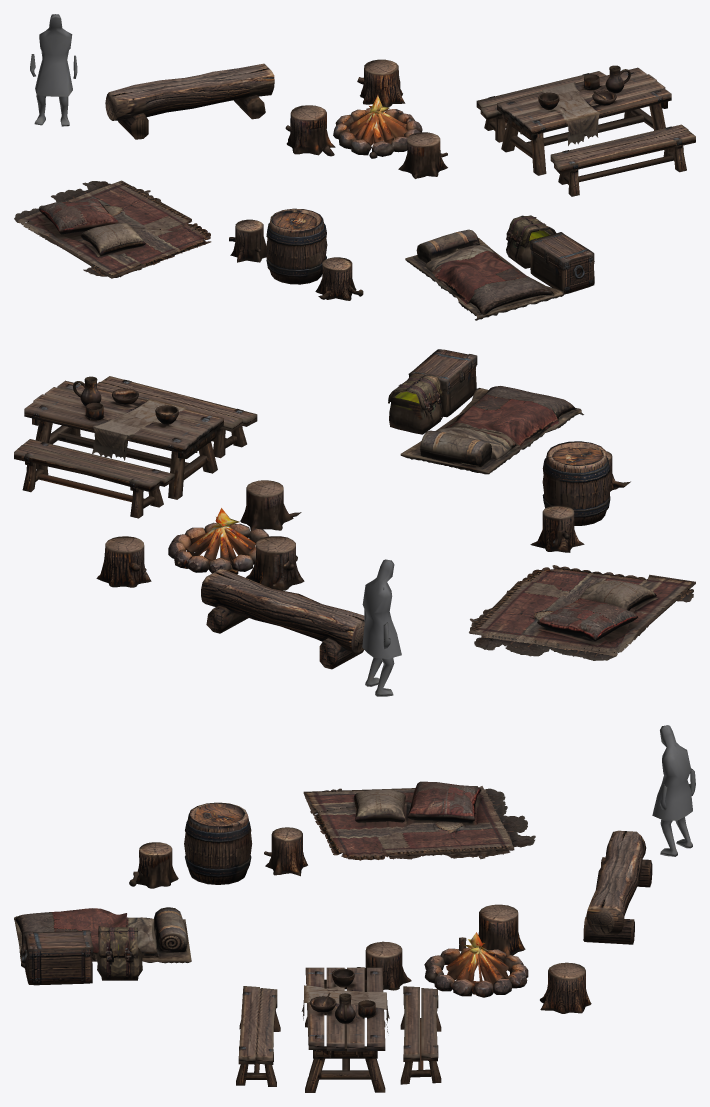
Rendered from asset_20_social_seating_set.glb.
The picture shows the model from 3 angles, top to bottom: view 1: azimuth 30°, elevation 25°; view 2: azimuth 150°, elevation 25°; view 3: azimuth 270°, elevation 25°; orthographic projection. The views are drawn at different scales.
Parts seen in each view (by area): view 1: tripo_859b735f_1825_4a52_b536_e51a407c41b5; view 2: tripo_859b735f_1825_4a52_b536_e51a407c41b5; view 3: tripo_859b735f_1825_4a52_b536_e51a407c41b5.
Boxes of the visible parts, left/top/right/bottom form: tripo_859b735f_1825_4a52_b536_e51a407c41b5: left=14, top=14, right=695, bottom=320; tripo_859b735f_1825_4a52_b536_e51a407c41b5: left=14, top=349, right=695, bottom=696; tripo_859b735f_1825_4a52_b536_e51a407c41b5: left=14, top=725, right=695, bottom=1092.
Size of the model in its own units: 0.9995 by 0.1978 by 0.938.
Materials: 1 (1 with a texture image).
